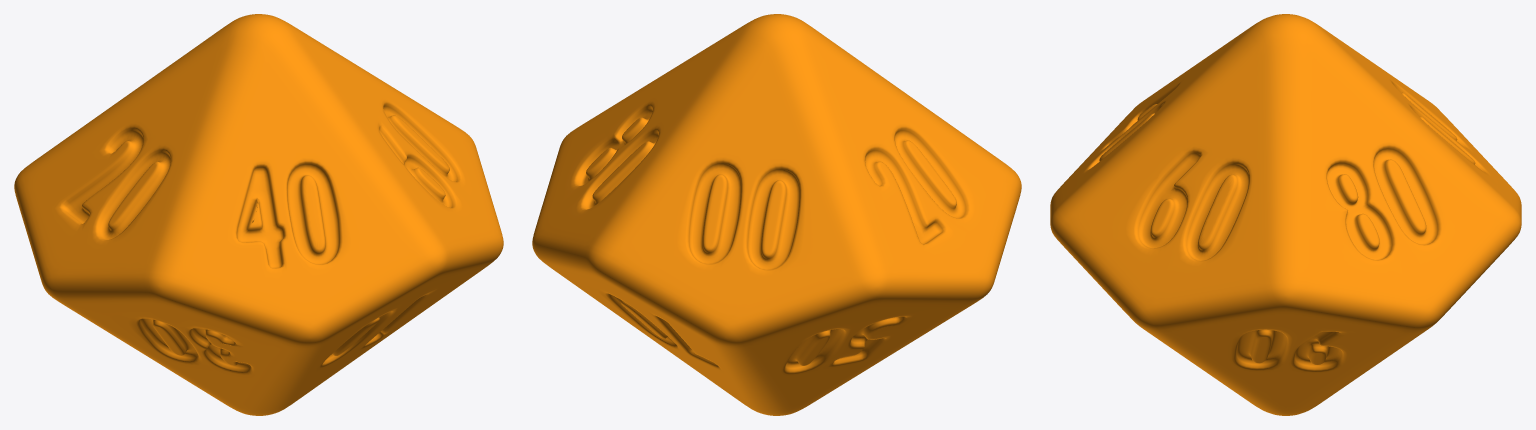
The model's file is Dice_D10_dozens.fbx.
3 views of the same model, side by side, from view 1: azimuth 30°, elevation 25°; view 2: azimuth 150°, elevation 25°; view 3: azimuth 270°, elevation 25° (orthographic).
Visible parts, largest first — view 1: Icosphere.003; view 2: Icosphere.003; view 3: Icosphere.003.
Boxes of the visible parts, x1,y1,x2,y2 form: Icosphere.003: (14, 14, 503, 415); Icosphere.003: (532, 14, 1021, 415); Icosphere.003: (1050, 14, 1521, 415).
Size of the model in its own units: 246 by 218 by 236.
